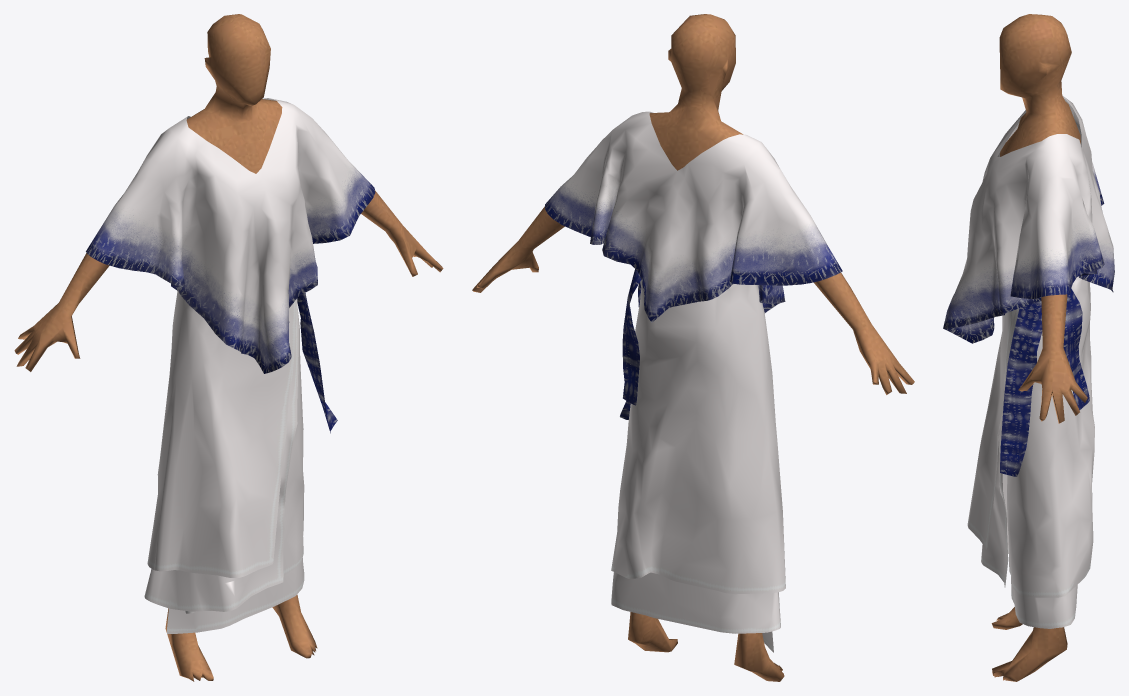
Rendered from TRAJETIPICOLow.obj.
The picture shows the model from 3 angles, left to right: view 1: azimuth 30°, elevation 25°; view 2: azimuth 150°, elevation 25°; view 3: azimuth 270°, elevation 25°; orthographic projection. The views are drawn at different scales.
Visible parts, largest first — view 1: TrajeTipico, Maniqui; view 2: TrajeTipico, Maniqui; view 3: TrajeTipico, Maniqui.
Part boxes in pixels (bbox=[...]): TrajeTipico: bbox=[86, 98, 375, 633]; Maniqui: bbox=[14, 14, 443, 681]; TrajeTipico: bbox=[545, 111, 842, 652]; Maniqui: bbox=[472, 14, 914, 681]; TrajeTipico: bbox=[943, 95, 1114, 628]; Maniqui: bbox=[991, 14, 1087, 681].
Size of the model in its own units: 130 by 189 by 46.39.
